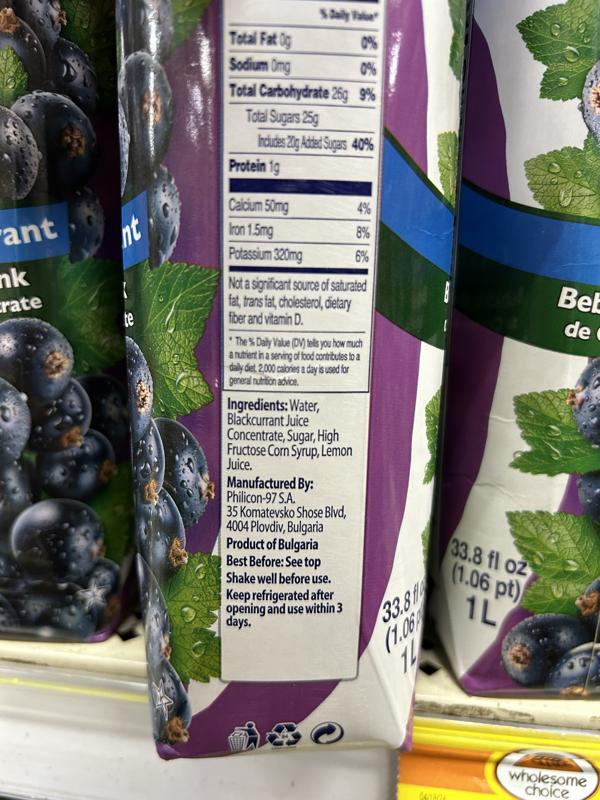ingredients: (224, 394, 357, 473)
